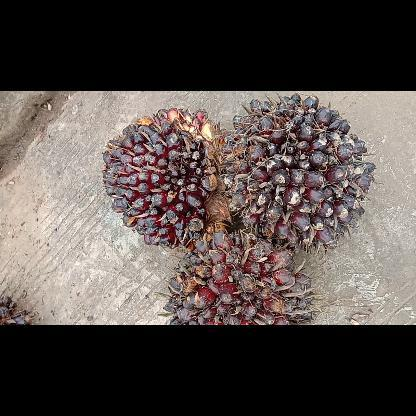TBS mentah: (217, 91, 377, 256), (100, 103, 236, 251), (162, 228, 318, 324)
